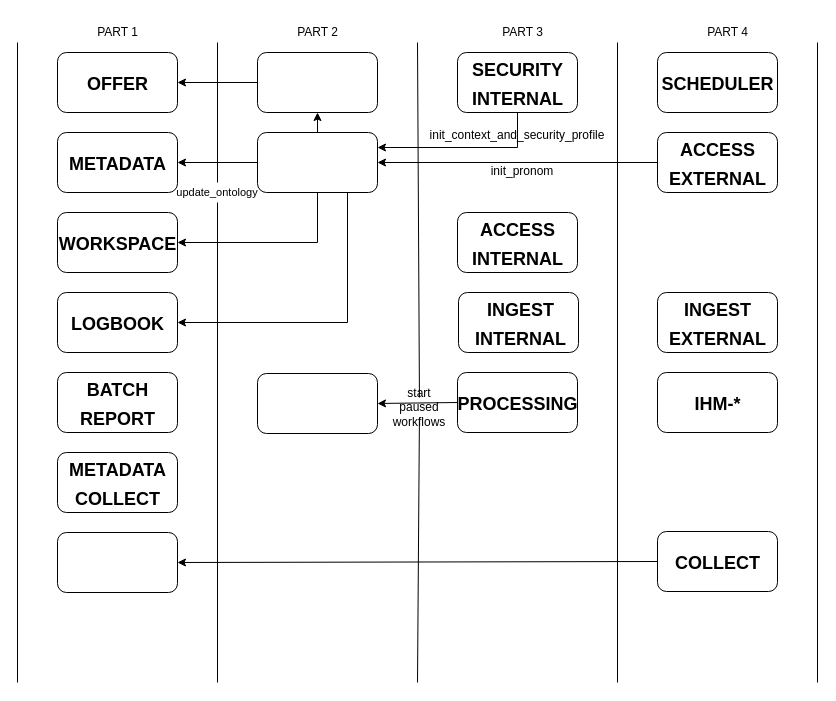
Some shapes in this 836 by 701 pixel diagram are drawn without their labels. The centre of each missing label's shape, as x and y in pixels:
FUNCTIONNAL ADMIN: (x=317, y=162)
STORAGE: (x=317, y=82)
WORKER: (x=317, y=403)
WORKSPACE COLLECT: (x=117, y=562)
